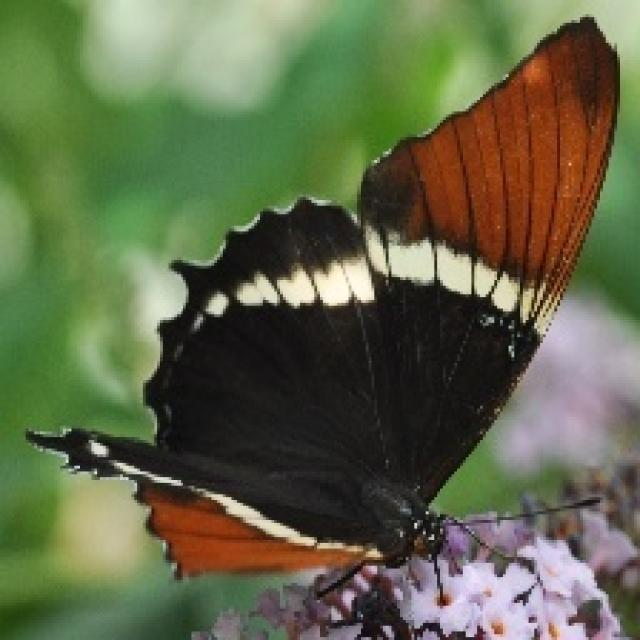butterfly: (30, 17, 622, 640)
